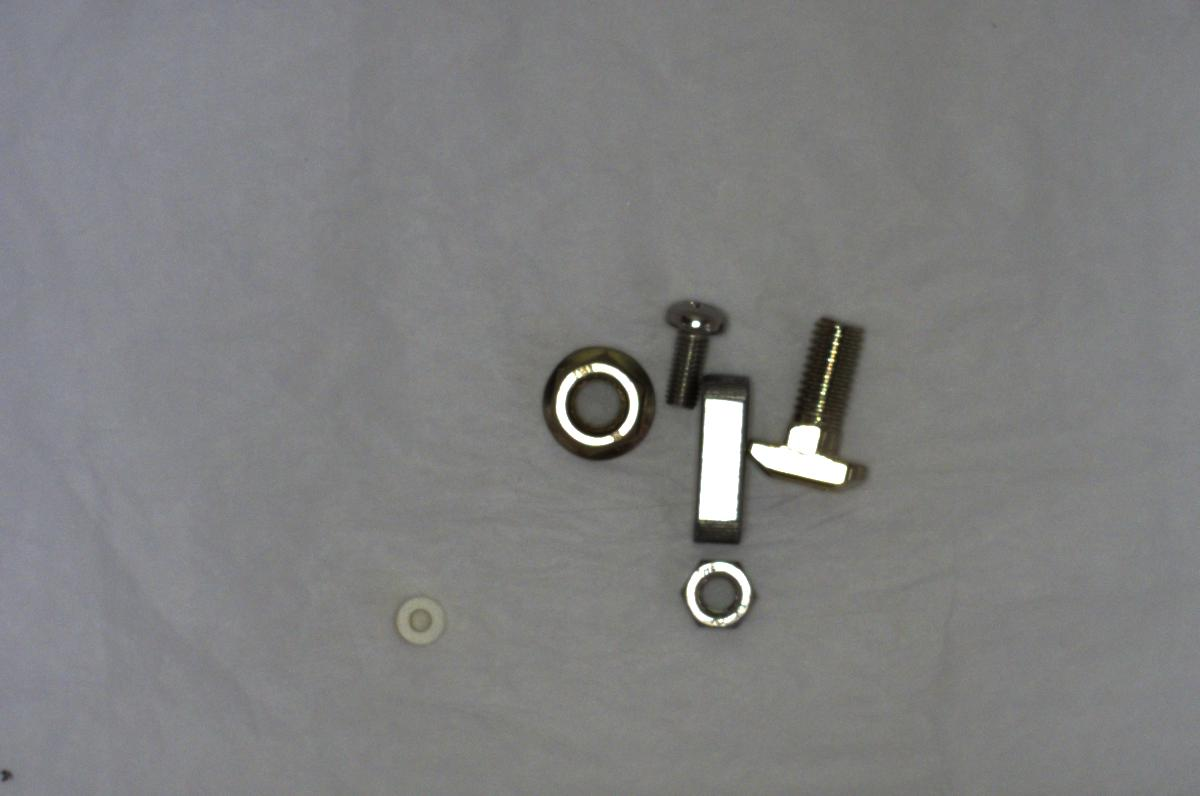Flange nut: (528, 337, 662, 464)
Hexagon nut: (676, 551, 758, 633)
Keybar: (688, 380, 753, 548)
Plastic cushion pillar: (391, 590, 448, 654)
Round head screw: (648, 290, 728, 408)
T-shaped screw: (738, 314, 883, 503)
